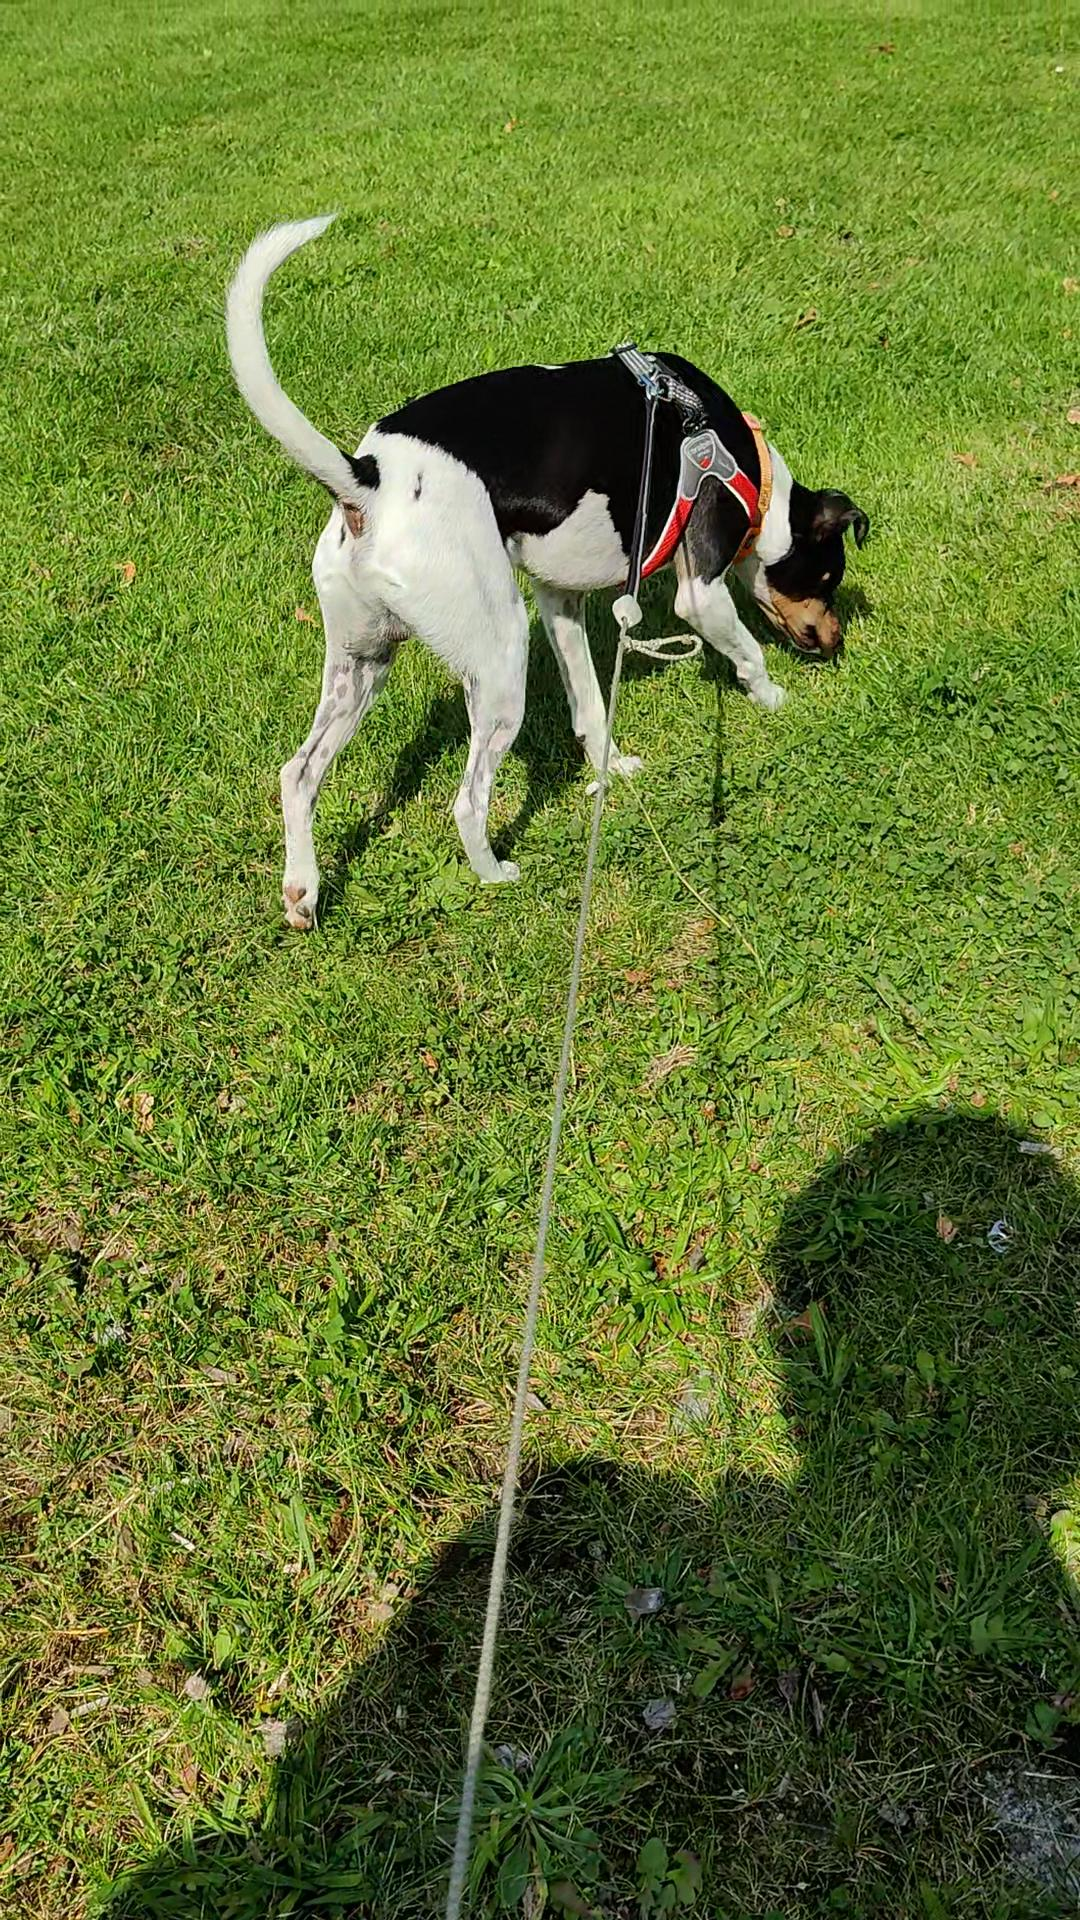Dog: (189, 187, 887, 949)
